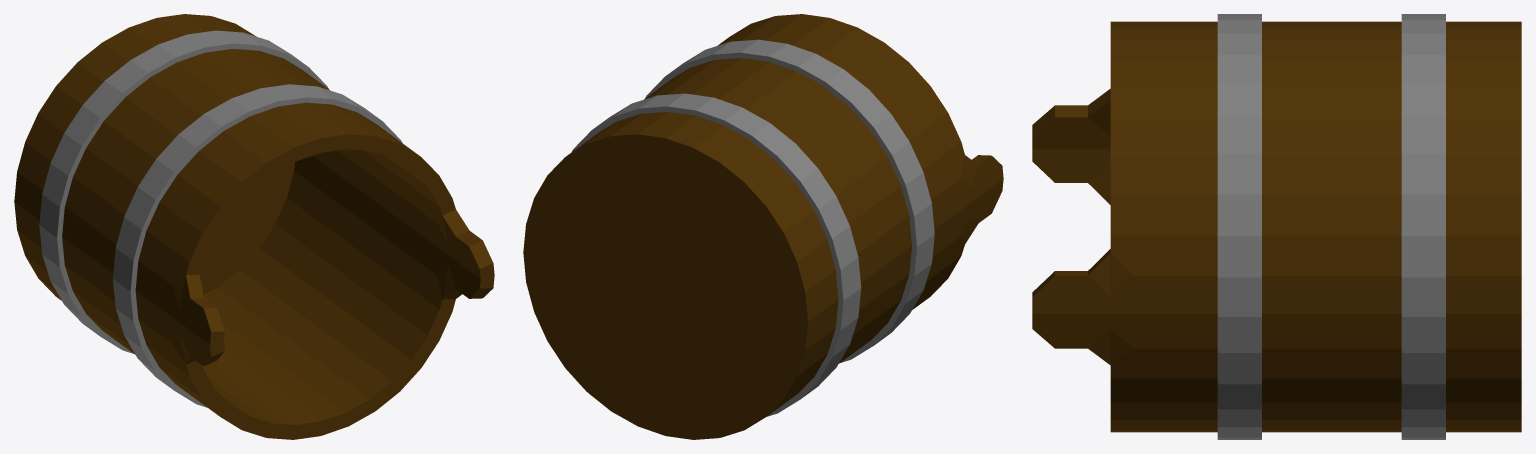
Rendered from bucket2.fbx.
The picture shows the model from 3 angles, left to right: view 1: azimuth 30°, elevation 25°; view 2: azimuth 150°, elevation 25°; view 3: azimuth 270°, elevation 25°; orthographic projection. The views are drawn at different scales.
Visible parts, largest first — view 1: Cylinder; view 2: Cylinder; view 3: Cylinder.
Boxes of the visible parts, x1,y1,x2,y2 form: Cylinder: (14, 14, 494, 439); Cylinder: (523, 14, 1003, 439); Cylinder: (1032, 14, 1521, 439).
Bounding box in the file's own units: 66.57 × 66.57 × 76.44.
